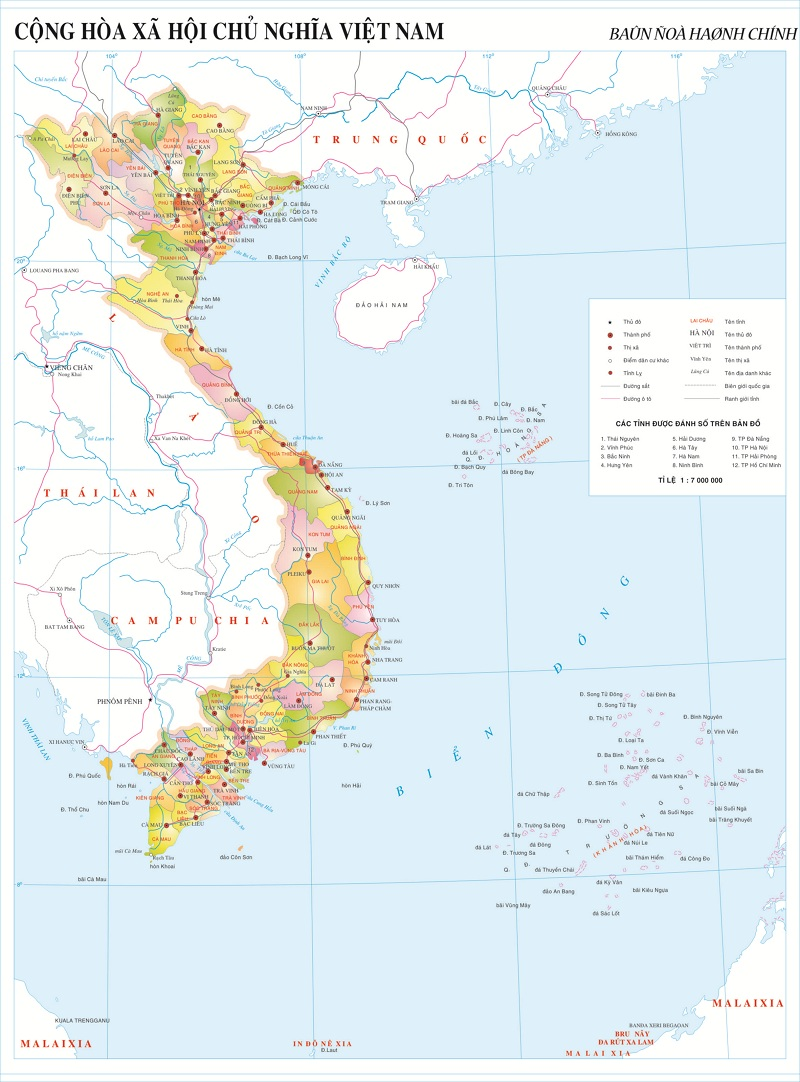Island: (488, 688, 771, 916), (414, 393, 560, 500)
